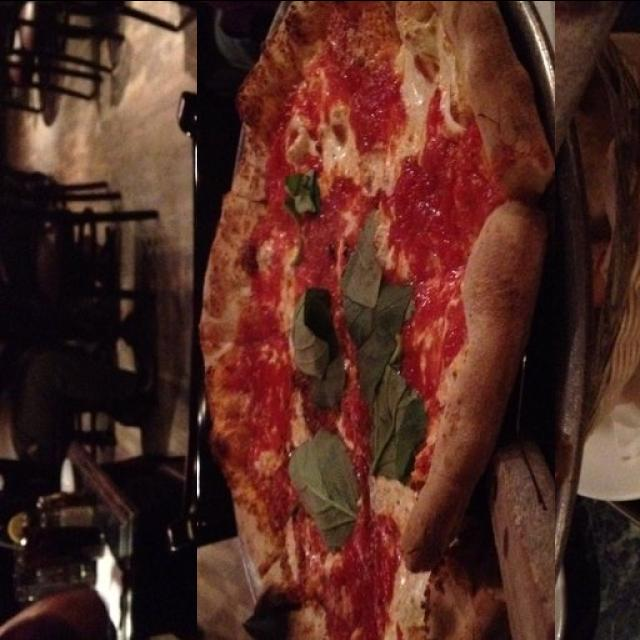basil: (342, 160, 424, 425), (286, 91, 362, 209), (293, 228, 344, 350), (282, 418, 322, 472)
pizza: (197, 0, 555, 640)
